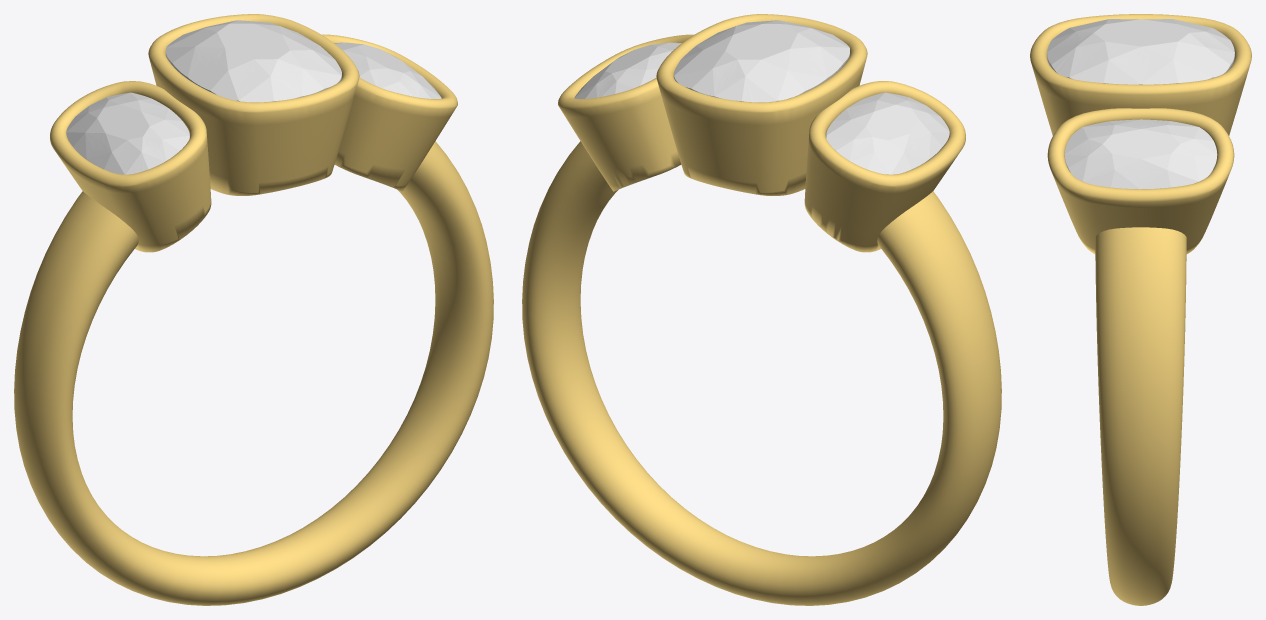
File: diamond-cushion-yellowgold-bezelset-taperedband-3stone.glb
3 renders of one model, left to right at view 1: azimuth 30°, elevation 25°; view 2: azimuth 150°, elevation 25°; view 3: azimuth 270°, elevation 25°, orthographic.
Visible parts, largest first — view 1: metal.002, stone.001, side.002, side.003; view 2: metal.002, stone.001, side.002, side.003; view 3: metal.002, stone.001, side.003.
Boxes of the visible parts, left/top/right/bottom form: metal.002: left=14, top=14, right=493, bottom=605; stone.001: left=166, top=20, right=341, bottom=102; side.002: left=66, top=92, right=189, bottom=174; side.003: left=334, top=42, right=441, bottom=98; metal.002: left=522, top=14, right=1001, bottom=605; stone.001: left=674, top=20, right=849, bottom=102; side.002: left=826, top=92, right=949, bottom=174; side.003: left=574, top=42, right=681, bottom=99; metal.002: left=1030, top=14, right=1251, bottom=605; stone.001: left=1047, top=19, right=1234, bottom=84; side.003: left=1064, top=119, right=1217, bottom=189.
Bounding box in the file's own units: 20.09 × 23.03 × 8.45.
